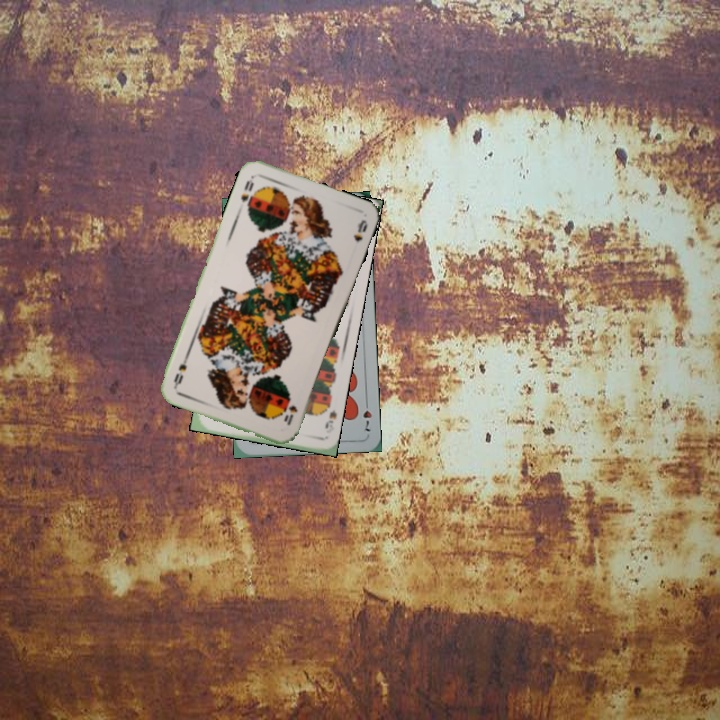H7: (359, 395, 374, 434)
S9: (319, 398, 339, 431)
SO: (237, 173, 256, 209), (280, 394, 300, 428)
